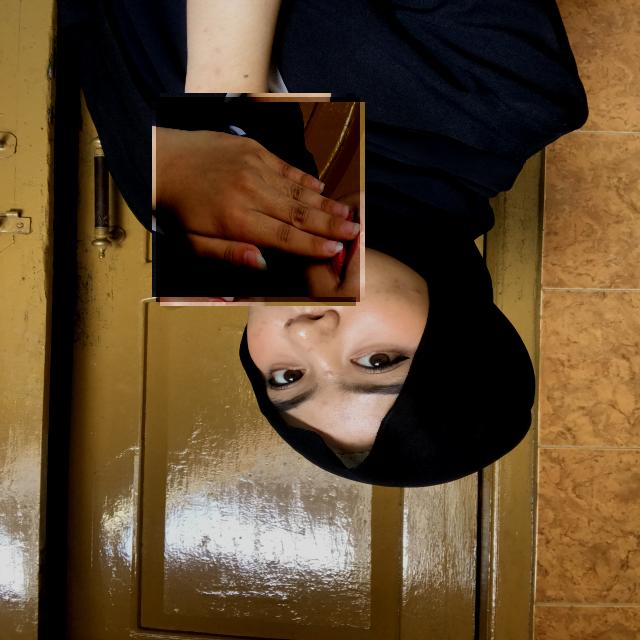ganteng: (156, 97, 360, 302)
